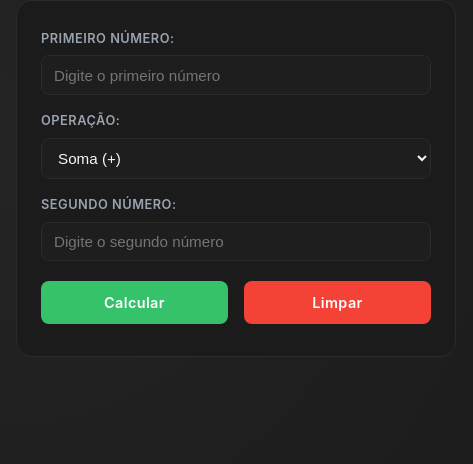
Test: CalculatorComponent - Testes de Fluxo de Controle › Caminho 3A: Entrada Inválida → Erro › deve seguir caminho de erro quando ambos são inválidos
The width and height of the screenshot is (473, 464).
Type "xyz" into the field with test id "num1-input" at (236, 75), box left=41, top=55, right=431, bottom=95
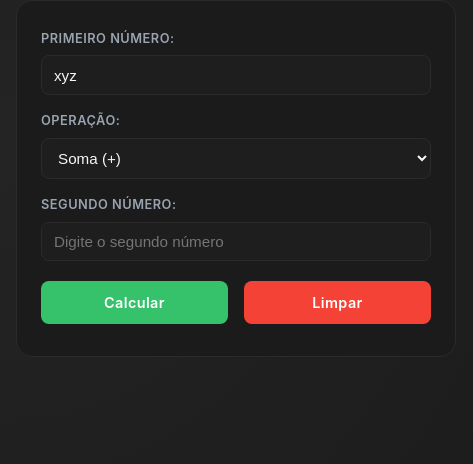
Type "abc" into the field with test id "num2-input" at (236, 242), box left=41, top=222, right=431, bottom=262
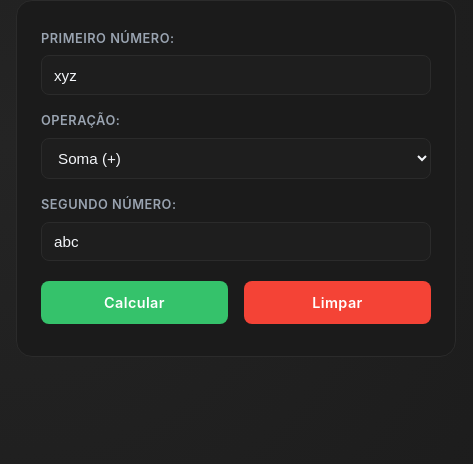
Click the button with test id "calculate-button" at (134, 303), box left=41, top=282, right=228, bottom=324
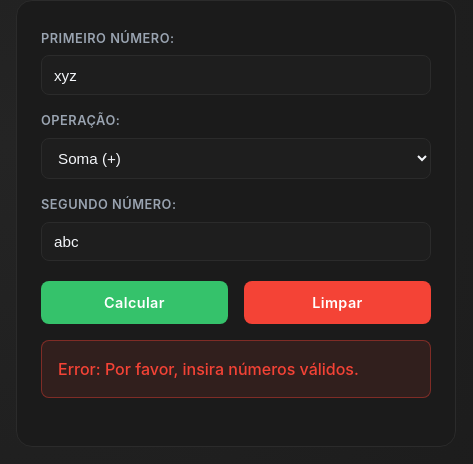
Expected: the text with test id "error" shows "Por favor, insira números válidos.", left=105, top=360, right=359, bottom=380
